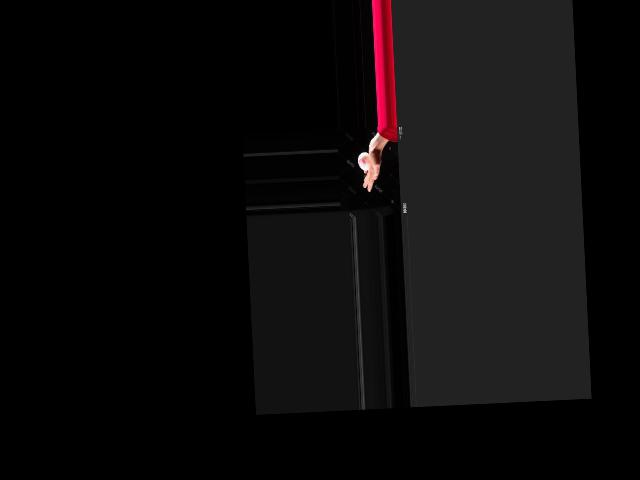egg: (357, 151, 370, 170)
